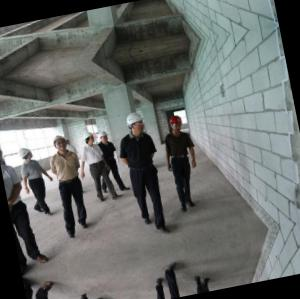helmet: (125, 109, 149, 137), (167, 112, 187, 137), (17, 143, 38, 164), (52, 133, 69, 153), (83, 129, 99, 149), (97, 127, 112, 147)
